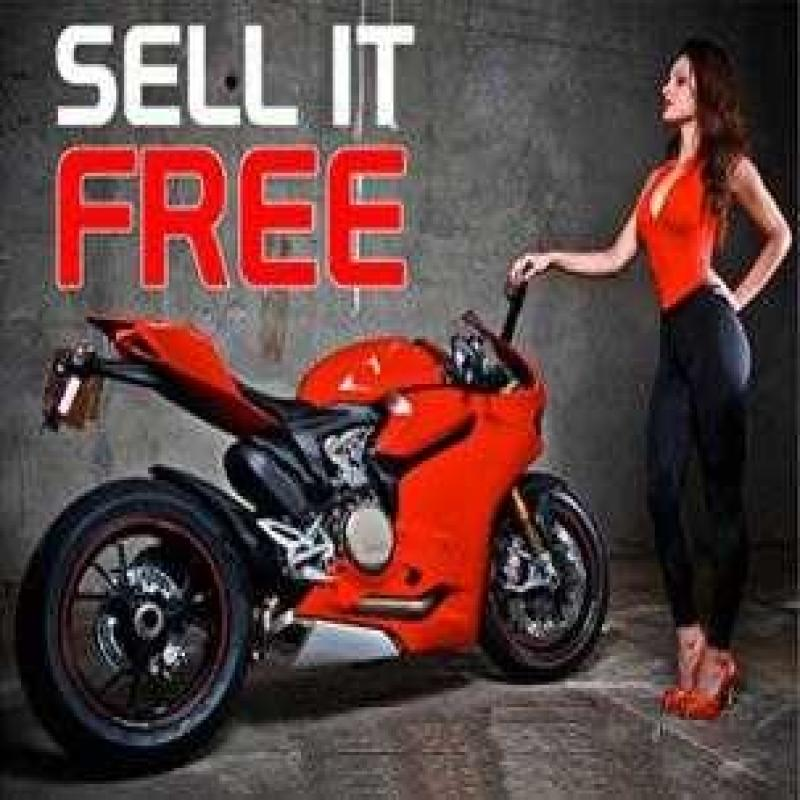bike: (15, 256, 638, 743)
